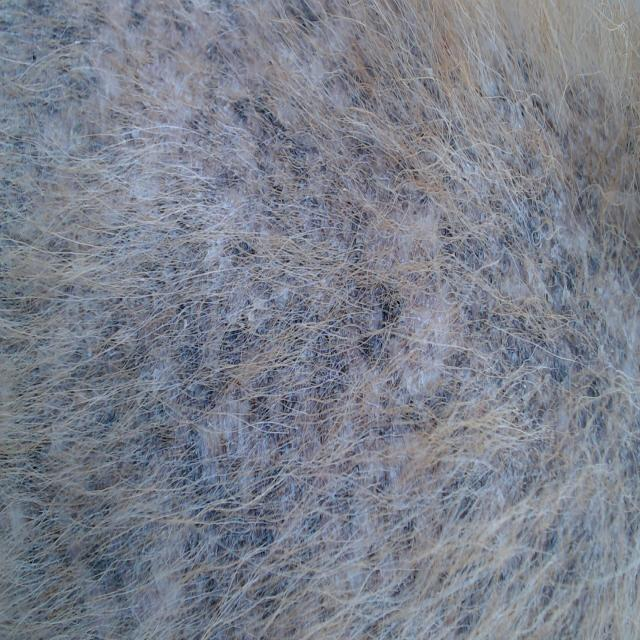demodicosis: (143, 62, 518, 586)
